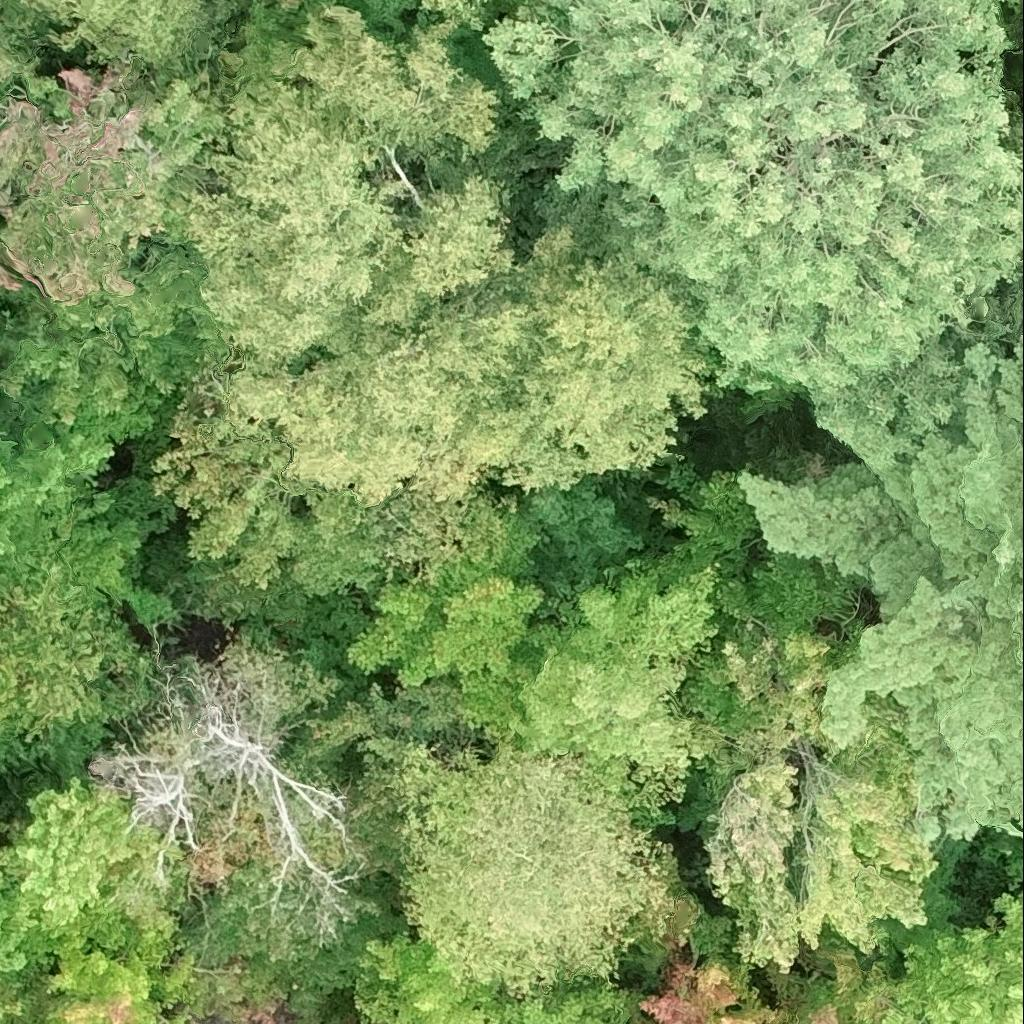crown: (486, 0, 1023, 393), (738, 330, 1023, 844), (192, 10, 511, 368), (437, 228, 707, 491), (231, 306, 531, 505), (0, 58, 172, 304), (25, 0, 200, 63), (418, 0, 488, 34), (0, 49, 37, 83), (278, 0, 300, 12)
